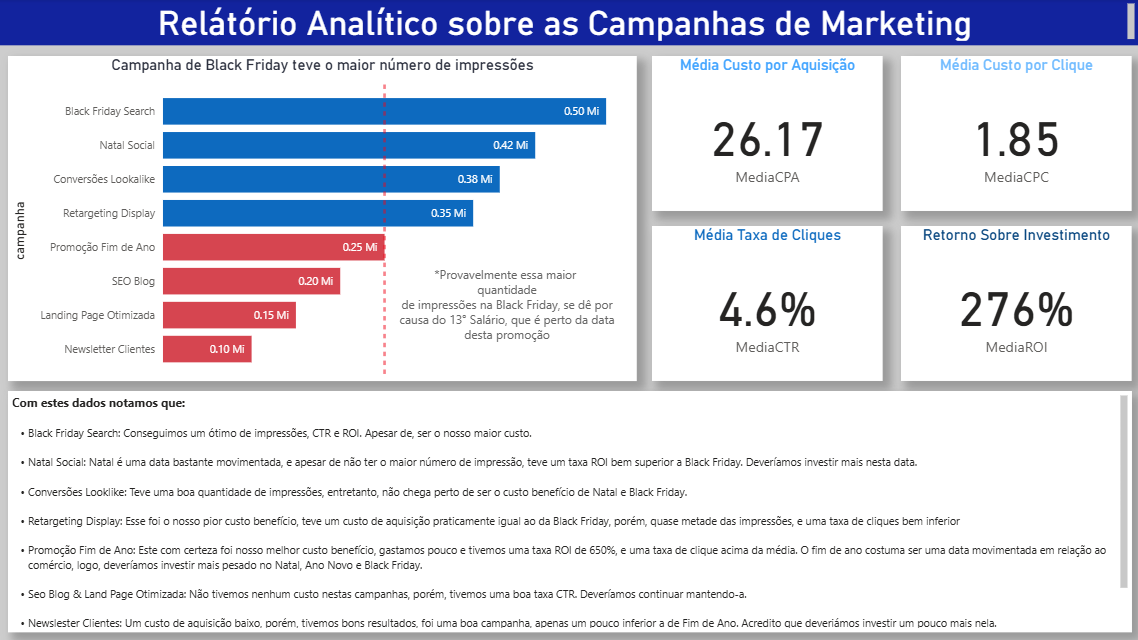

The page's visual inventory and layout, read from the dashboard file:
{"tool":"powerbi","page":{"name":"Página 1","canvas":[1280,720],"ordinal":0},"visuals":[{"type":"textbox","box":[0,0,1280,51.6],"z":0},{"type":"barChart","title":"Campanha de Black Friday teve o maior número de impressões","fields":{"Category":["campanhas_marketing_Q4.campanha"],"Y":["Sum(campanhas_marketing_Q4.impressoes)"]},"box":[10.1,64,706.2,364.9],"z":1000},{"type":"card","title":"Média Custo por Aquisição","fields":{"Values":["campanhas_marketing_Q4.MediaCPA"]},"box":[733.2,64,259.4,174],"z":2000},{"type":"card","title":"Média Custo por Clique","fields":{"Values":["campanhas_marketing_Q4.MediaCPC"]},"box":[1012.8,64,259.4,174],"z":3000},{"type":"card","title":"Média Taxa de Cliques","fields":{"Values":["campanhas_marketing_Q4.MediaCTR"]},"box":[733.2,254.9,259.4,174],"z":4000},{"type":"card","title":"Retorno Sobre Investimento","fields":{"Values":["campanhas_marketing_Q4.MediaROI"]},"box":[1012.8,254.9,259.4,174],"z":5000},{"type":"textbox","box":[443.5,295.3,253.8,125.8],"z":6000},{"type":"textbox","box":[10.1,440.1,1262,270.6],"z":7000}]}

Visuals, with their boxes in screenshot pixels (x1, y1, x2, y2), scaled from the page's 1280x720 canvas onto the 1138x640 screenshot:
textbox: [0,0,1137,46]
"Campanha de Black Friday teve o maior número de impressões" barChart: [9,57,637,381]
"Média Custo por Aquisição" card: [652,57,882,212]
"Média Custo por Clique" card: [900,57,1131,212]
"Média Taxa de Cliques" card: [652,227,882,381]
"Retorno Sobre Investimento" card: [900,227,1131,381]
textbox: [394,262,620,374]
textbox: [9,391,1131,632]
